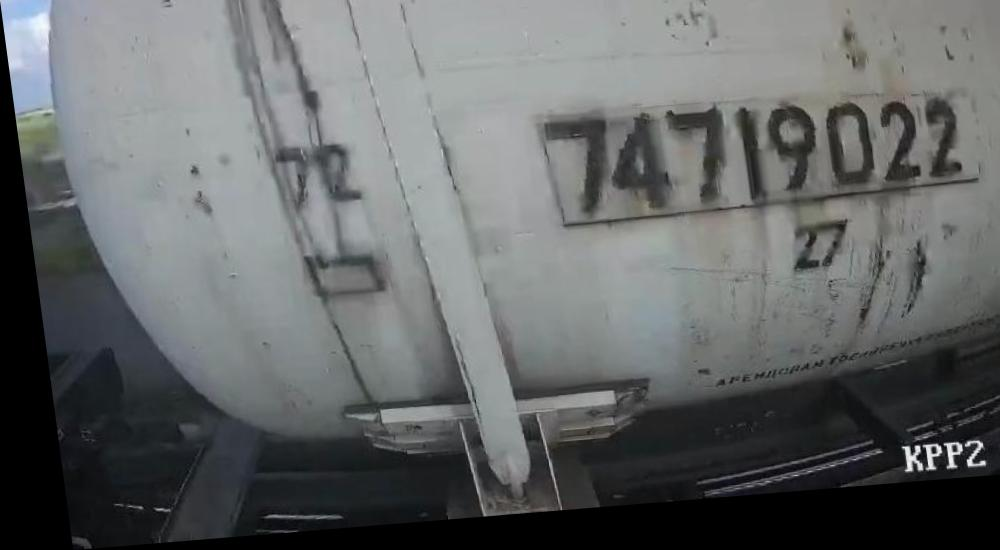Wagon-number: (533, 98, 965, 227)
